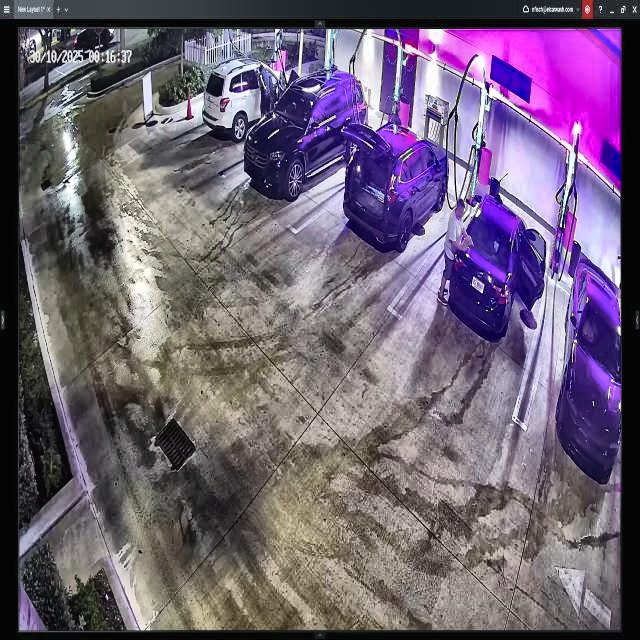Car: (244, 71, 366, 196), (342, 122, 449, 248), (451, 195, 545, 337), (200, 63, 298, 140)
